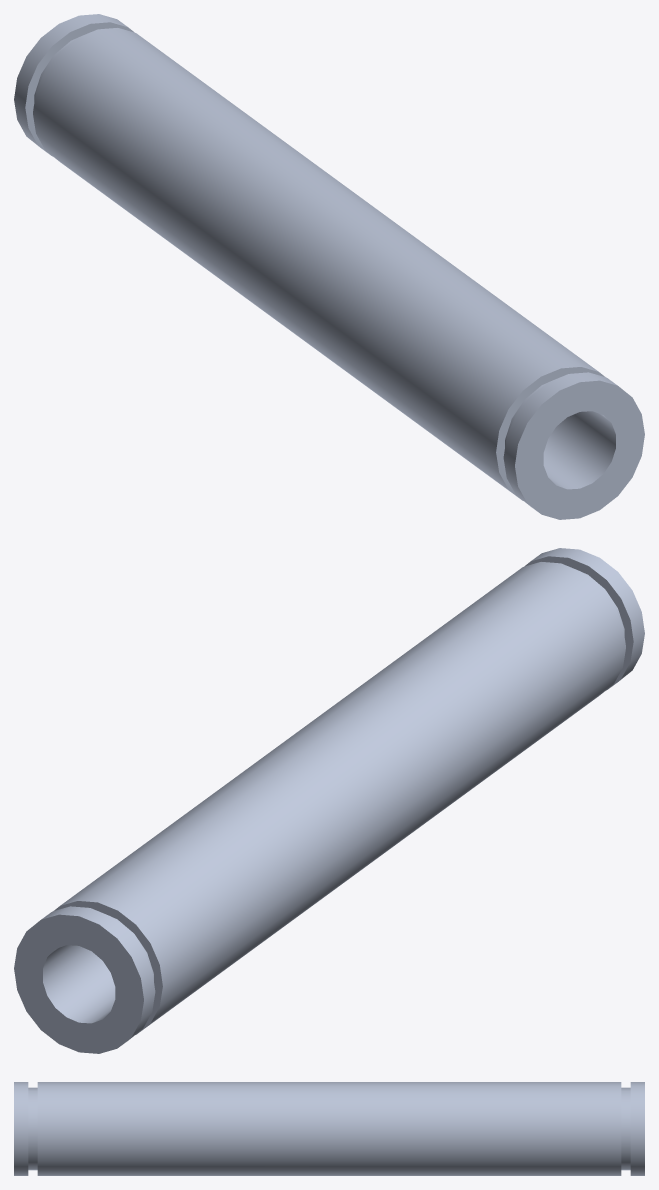
3 views of the same model, one above another, from view 1: azimuth 30°, elevation 25°; view 2: azimuth 150°, elevation 25°; view 3: azimuth 270°, elevation 25° (orthographic). The views are drawn at different scales.
Parts seen in each view (by area): view 1: 镜向1; view 2: 镜向1; view 3: 镜向1.
Boxes of the visible parts, box(x1,y1,x2,y2) form: 镜向1: box(14, 14, 644, 519); 镜向1: box(14, 548, 644, 1053); 镜向1: box(14, 1082, 644, 1175).
Size of the model in its own units: 0.798 by 0.798 by 5.32.
